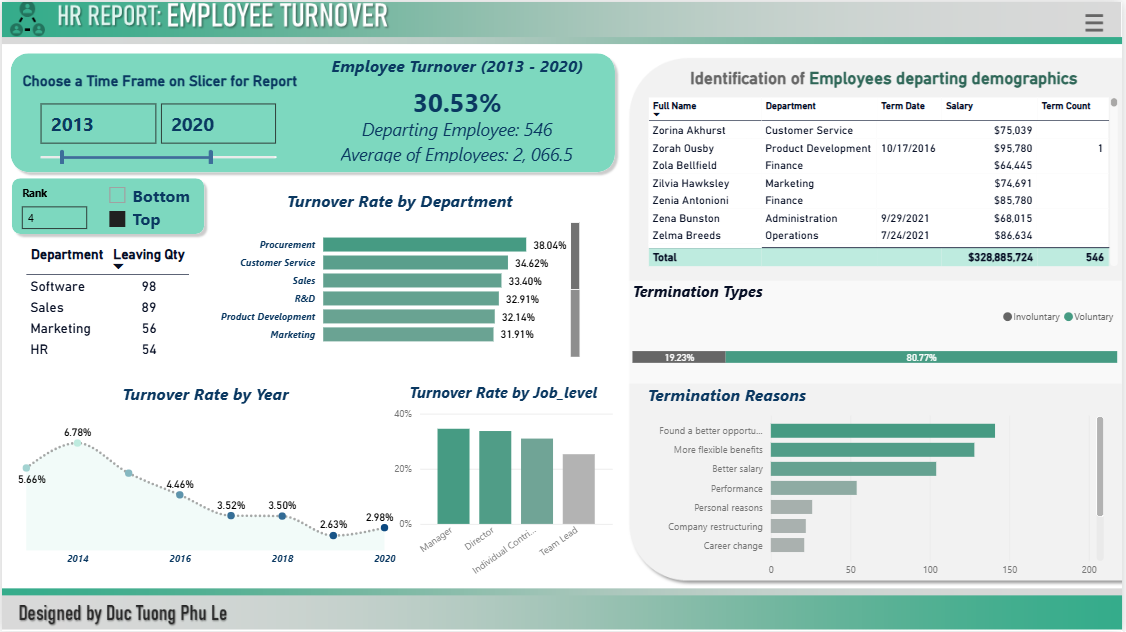

Layout of this report page (visuals, bound fields, positions):
{"tool":"powerbi","page":{"name":"Turn Over","canvas":[1280,720],"ordinal":3},"visuals":[{"type":"clusteredColumnChart","fields":{"Category":["Level_Dim.Job_level"],"Y":["Measure.Turnover Rate"]},"box":[443,434.9,260.5,231.4],"z":0},{"type":"clusteredBarChart","fields":{"Category":["Department_Dim.Department"],"Y":["Measure.Turnover Rate"]},"box":[244.2,214,420.9,196.5],"z":1000},{"type":"lineChart","fields":{"Category":["Dates.Year"],"Y":["Measure.Turnover Rate"]},"box":[10.5,434.9,445.4,219.8],"z":2000},{"type":"tableEx","fields":{"Values":["Fact_Table.Full Name","Department_Dim.Department","Fact_Table.Term_date","Sum(Fact_Table.Salary)","Measure.Leaving Headcount"]},"box":[732.6,104.7,547.7,202.3],"z":3000},{"type":"clusteredBarChart","title":"Termination Reasons","fields":{"Category":["Term_Dim.Term_reason"],"Y":["Measure.Leaving Headcount"]},"box":[732.6,436,531.4,230.2],"z":4000},{"type":"hundredPercentStackedBarChart","title":"Termination Types","fields":{"Series":["Term_Dim.Term_type"],"Y":["Measure.Leaving Headcount"]},"box":[716.3,318.6,564,117.4],"z":5000},{"type":"shape","box":[2.3,51.2,704.7,150],"z":6000},{"type":"cardVisual","fields":{"Data":["Measure.Turnover Rate"]},"box":[354.7,59.3,332.6,74.4],"z":7000},{"type":"cardVisual","fields":{"Data":["Measure.Departing Employee Title"]},"box":[391.9,131.4,257,34.9],"z":8000},{"type":"cardVisual","fields":{"Data":["Measure.Average Employee Text"]},"box":[360.5,150,319.8,39.5],"z":9000},{"type":"slicer","fields":{"Values":["Dates.Year"]},"box":[31.4,105.8,295.7,87.1],"z":10000},{"type":"shape","box":[4.7,194.2,233.7,77.9],"z":11000},{"type":"tableEx","fields":{"Values":["Department_Dim.Department","Rank HeadCount new.Rank"]},"box":[20.9,272.1,212.8,151.2],"z":12000},{"type":"slicer","fields":{"Values":["Choose Rank.Type"]},"box":[109.3,201.2,111.6,64],"z":13000},{"type":"slicer","fields":{"Values":["Rank HeadCount new.Rank HeadCount new"]},"box":[10.5,205.8,105.8,77.9],"z":14000},{"type":"textbox","box":[753.5,70.9,510,51.4],"z":15000},{"type":"textbox","box":[18.6,75.6,348.8,46.5],"z":16000},{"type":"actionButton","box":[1217.3,0,62.3,43.3],"z":17000},{"type":"group","id":"g1","title":"Slicer","box":[999.5,59.6,280.5,623.4],"z":18000}]}

Visuals, with their boxes in screenshot pixels (x1, y1, x2, y2), scaled from the page's 1280x720 canvas onto the 1126x632 screenshot:
clusteredColumnChart - Level_Dim.Job_level x Measure.Turnover Rate: (left=390, top=382, right=619, bottom=585)
clusteredBarChart - Department_Dim.Department x Measure.Turnover Rate: (left=215, top=188, right=585, bottom=360)
lineChart - Dates.Year x Measure.Turnover Rate: (left=9, top=382, right=401, bottom=575)
tableEx - Fact_Table.Full Name x Department_Dim.Department: (left=644, top=92, right=1125, bottom=269)
"Termination Reasons" clusteredBarChart: (left=644, top=383, right=1112, bottom=585)
"Termination Types" hundredPercentStackedBarChart: (left=630, top=280, right=1125, bottom=383)
shape: (left=2, top=45, right=622, bottom=177)
cardVisual - Measure.Turnover Rate: (left=312, top=52, right=605, bottom=117)
cardVisual - Measure.Departing Employee Title: (left=345, top=115, right=571, bottom=146)
cardVisual - Measure.Average Employee Text: (left=317, top=132, right=598, bottom=166)
slicer - Dates.Year: (left=28, top=93, right=288, bottom=169)
shape: (left=4, top=170, right=210, bottom=239)
tableEx - Department_Dim.Department x Rank HeadCount new.Rank: (left=18, top=239, right=206, bottom=372)
slicer - Choose Rank.Type: (left=96, top=177, right=194, bottom=233)
slicer - Rank HeadCount new.Rank HeadCount new: (left=9, top=181, right=102, bottom=249)
textbox: (left=663, top=62, right=1111, bottom=107)
textbox: (left=16, top=66, right=323, bottom=107)
actionButton: (left=1071, top=0, right=1125, bottom=38)
"Slicer" group: (left=879, top=52, right=1125, bottom=600)
